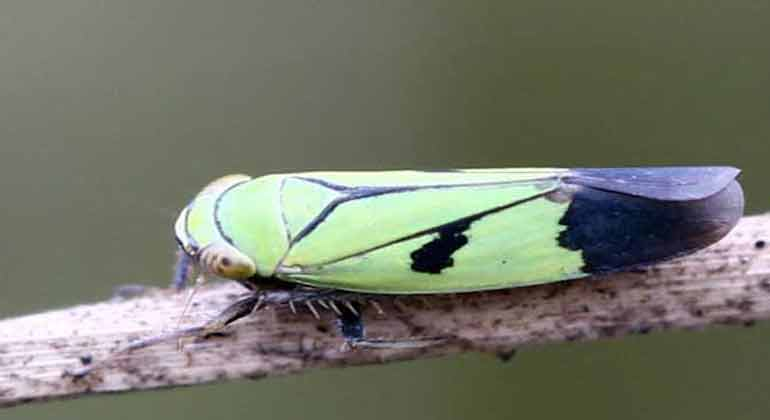Brown_plant_leafhopper: (181, 161, 749, 292)
